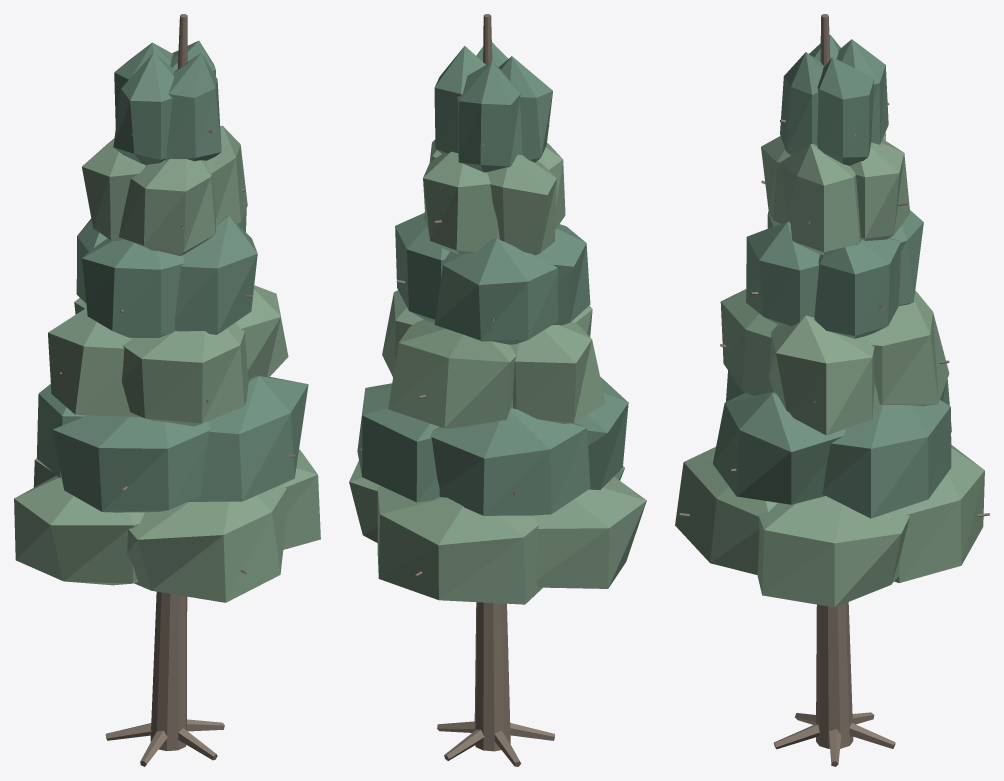
3 renders of one model, left to right at view 1: azimuth 30°, elevation 25°; view 2: azimuth 150°, elevation 25°; view 3: azimuth 270°, elevation 25°, orthographic.
Bounding box in the file's own units: 8.11 × 20.61 × 8.05.
